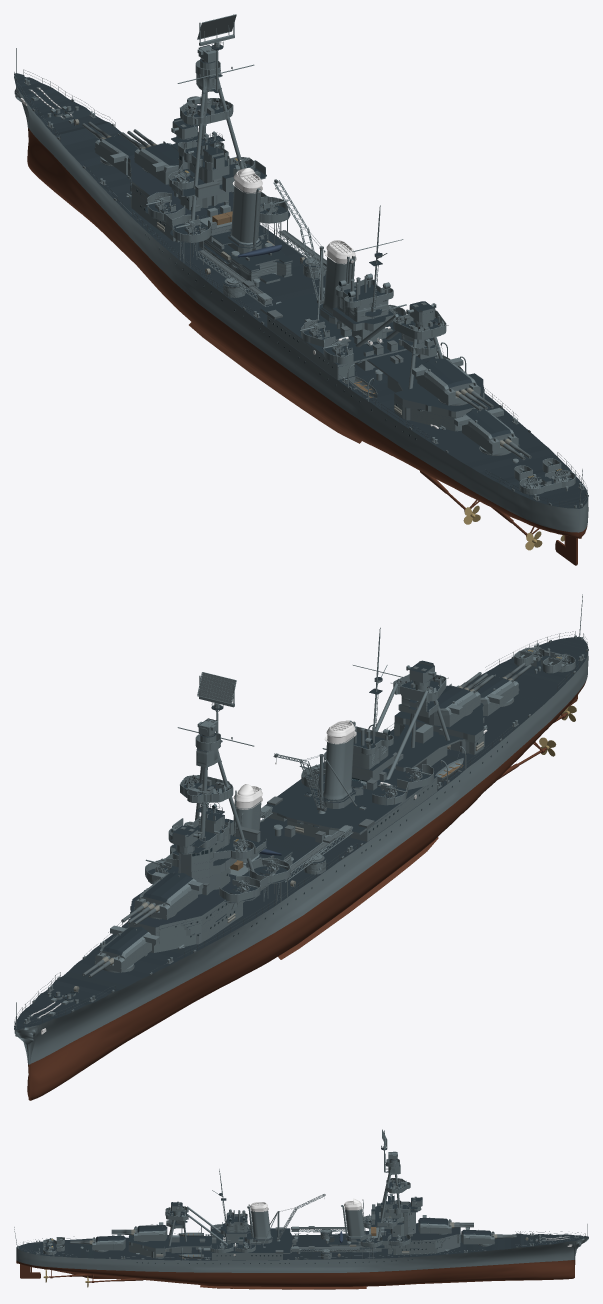
File: pensacola.glb
The picture shows the model from 3 angles, top to bottom: view 1: azimuth 30°, elevation 25°; view 2: azimuth 150°, elevation 25°; view 3: azimuth 270°, elevation 25°; orthographic projection. The views are drawn at different scales.
Visible parts, largest first — view 1: Blueprint lofted hull, midships-7.mesh, deck-stores.mesh, main-3.yaw.mesh, main-4.yaw.mesh, forward-funnel.mesh, after-deckhouse-4.mesh, foremast.mesh, bridge-5.mesh, after-funnel.mesh, bulwark-rails.mesh, main-2.yaw.mesh (+13 smaller); view 2: Blueprint lofted hull, midships-7.mesh, after-funnel.mesh, main-2.yaw.mesh, deck-stores.mesh, main-1.yaw.mesh, bridge-5.mesh, midships-15.mesh, main-3.yaw.mesh, mainmast.mesh, bulwark-rails.mesh, after-deckhouse-4.mesh (+11 smaller); view 3: Blueprint lofted hull, midships-7.mesh, deck-stores.mesh, after-funnel.mesh, forward-funnel.mesh, bridge-5.mesh, midships-15.mesh, main-3.yaw.mesh, main-2.yaw.mesh, bilge-keels.mesh, main-1.yaw.mesh, main-4.yaw.mesh (+14 smaller).
Part boxes in pixels (bbox=[...]): Blueprint lofted hull: bbox=[14, 73, 588, 538]; midships-7.mesh: bbox=[260, 290, 406, 366]; deck-stores.mesh: bbox=[31, 95, 560, 485]; main-3.yaw.mesh: bbox=[412, 357, 480, 405]; main-4.yaw.mesh: bbox=[454, 407, 519, 454]; forward-funnel.mesh: bbox=[230, 170, 262, 244]; after-deckhouse-4.mesh: bbox=[394, 373, 484, 417]; foremast.mesh: bbox=[177, 41, 254, 220]; bridge-5.mesh: bbox=[128, 155, 233, 229]; after-funnel.mesh: bbox=[323, 240, 355, 313]; bulwark-rails.mesh: bbox=[147, 60, 575, 488]; main-2.yaw.mesh: bbox=[134, 141, 178, 184]; Blueprint lofted hull: bbox=[14, 636, 588, 1100]; midships-7.mesh: bbox=[265, 762, 437, 834]; after-funnel.mesh: bbox=[323, 721, 355, 799]; main-2.yaw.mesh: bbox=[134, 872, 203, 919]; deck-stores.mesh: bbox=[48, 650, 560, 1015]; main-1.yaw.mesh: bbox=[94, 925, 159, 972]; bridge-5.mesh: bbox=[128, 865, 249, 931]; midships-15.mesh: bbox=[272, 722, 484, 835]; main-3.yaw.mesh: bbox=[417, 683, 480, 727]; mainmast.mesh: bbox=[353, 627, 449, 779]; bulwark-rails.mesh: bbox=[145, 647, 575, 894]; after-deckhouse-4.mesh: bbox=[394, 703, 484, 740]; Blueprint lofted hull: bbox=[16, 1233, 588, 1286]; midships-7.mesh: bbox=[211, 1228, 292, 1253]; deck-stores.mesh: bbox=[44, 1181, 561, 1256]; after-funnel.mesh: bbox=[250, 1202, 271, 1238]; forward-funnel.mesh: bbox=[344, 1201, 365, 1237]; bridge-5.mesh: bbox=[369, 1223, 460, 1241]; midships-15.mesh: bbox=[128, 1233, 293, 1253]; main-3.yaw.mesh: bbox=[133, 1222, 167, 1240]; main-2.yaw.mesh: bbox=[418, 1215, 451, 1233]; bilge-keels.mesh: bbox=[200, 1285, 366, 1289]; main-1.yaw.mesh: bbox=[461, 1227, 494, 1244]; main-4.yaw.mesh: bbox=[92, 1234, 125, 1250].
Bounding box in the file's own units: 20.64 × 49.98 × 179.
Materials: 15 (12 with a texture image).
